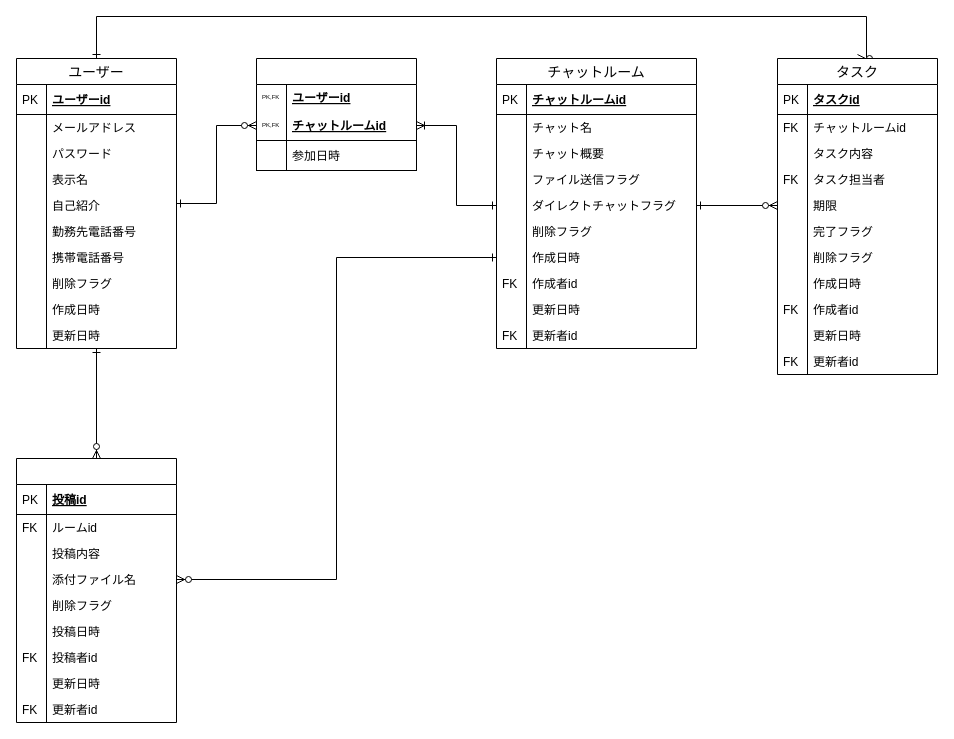
The diagram is 954 pixels wide and 739 high, and some of its shapes have lost their labels. Each missing label, with the box of its shape:
参加チャットルーム: (256, 58, 416, 170)
投稿: (16, 458, 176, 722)
